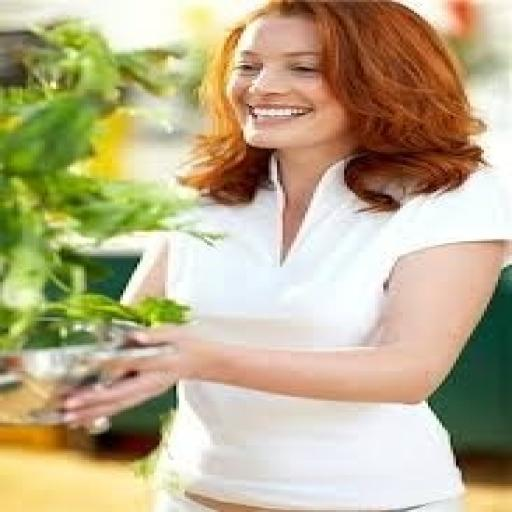laughing: (48, 0, 506, 510)
